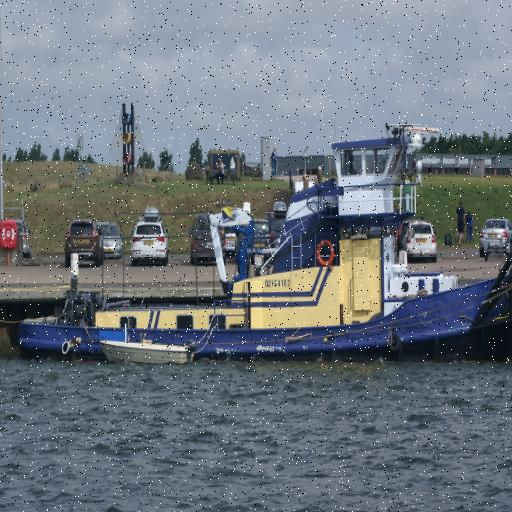tugboat: (10, 117, 512, 386)
